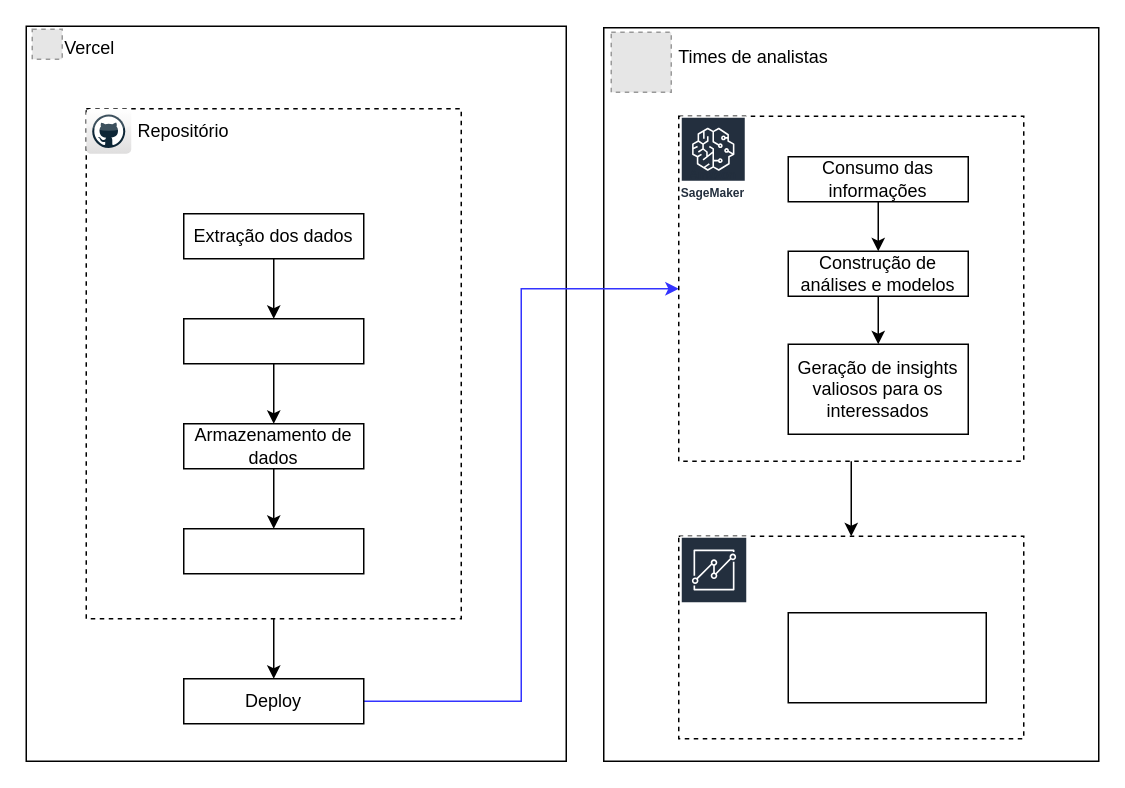
This 1125x788 diagram has some shape labels left out. Grey dashed boxes stand in for pictures. Here are the shapes that lost their labels. From the top down, the centre of each, then its label:
point 273,340: Processamento e tratamento de dados
point 273,550: Rotas API via FastAPI
point 713,580: Amazon QuickSight
point 886,657: Disponibilização da solução via dashbords, reports,etc.
